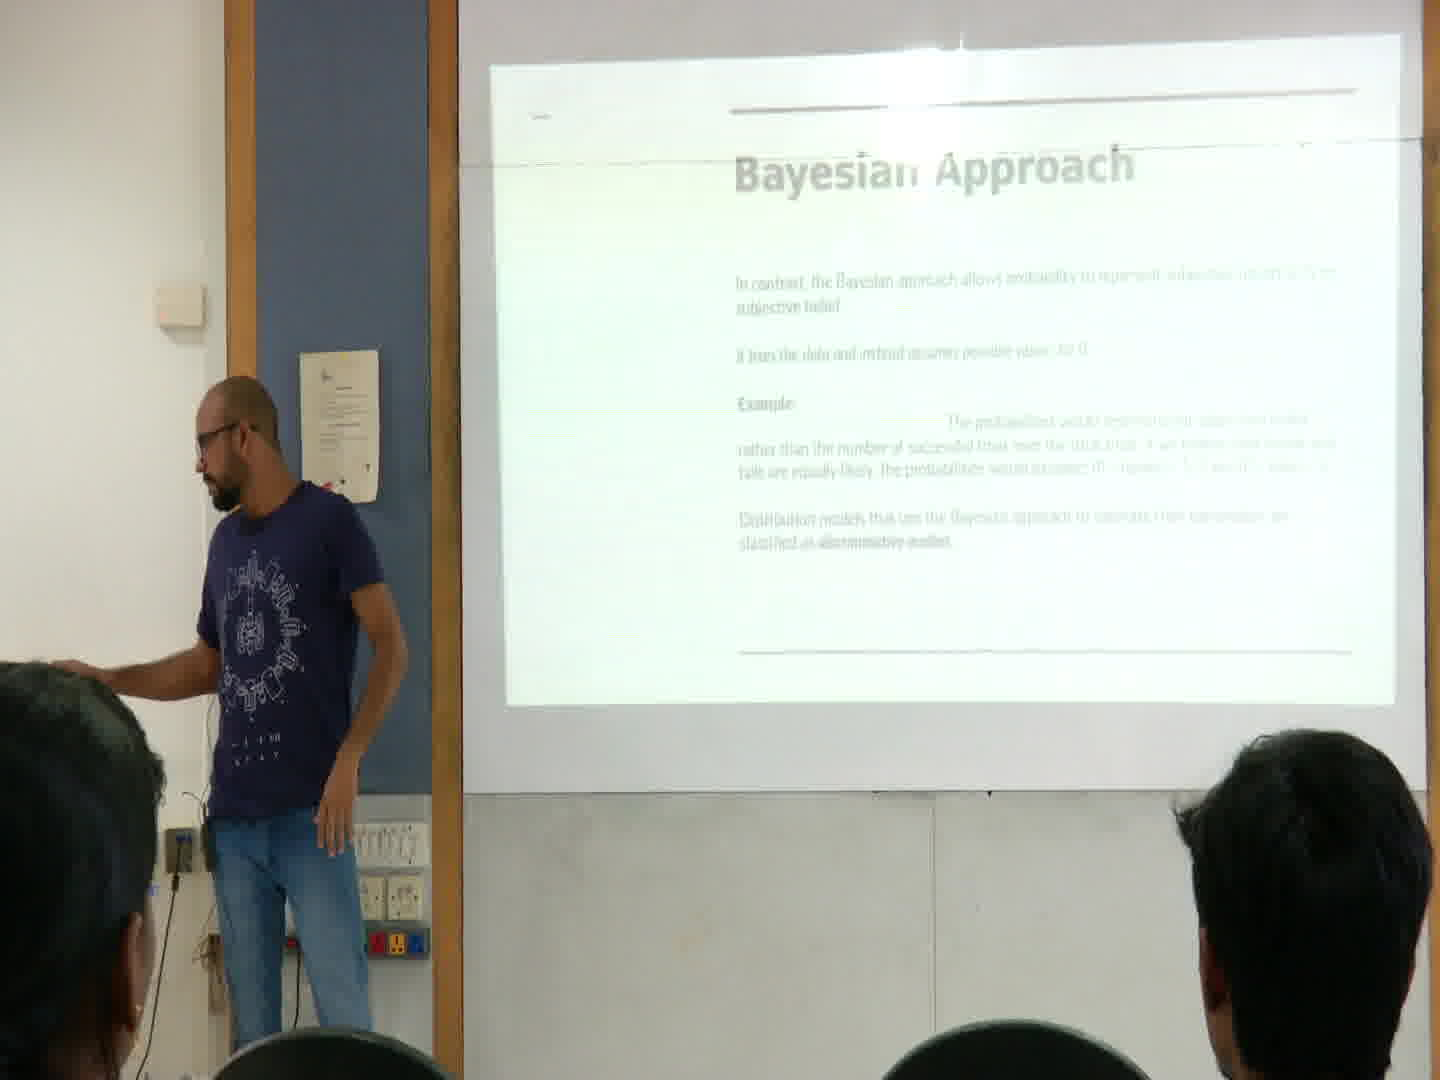slide: (490, 33, 1401, 703)
